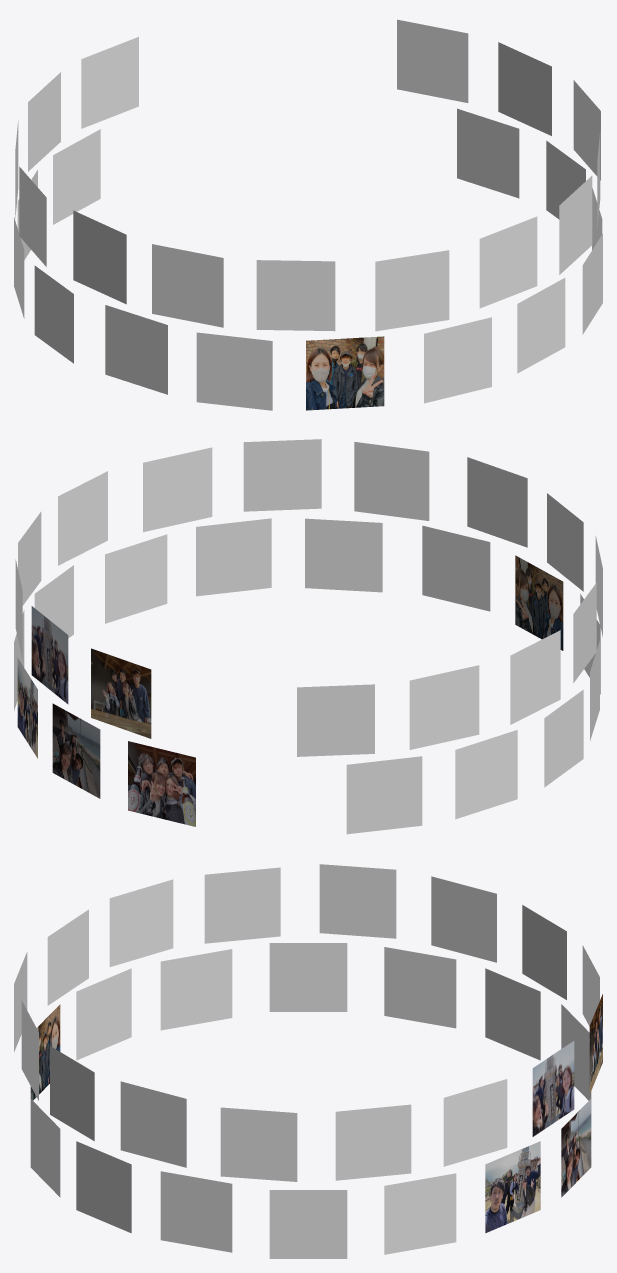
The model's file is Photo1.glb.
3 views of the same model, one above another, from view 1: azimuth 30°, elevation 25°; view 2: azimuth 150°, elevation 25°; view 3: azimuth 270°, elevation 25° (orthographic).
Parts seen in each view (by area): view 1: 平面20, 平面19, 平面21, 平面18, 平面6, 平面22, 平面17, 平面23, 平面7, 平面16, 平面32, 平面24 (+11 smaller); view 2: 平面14, 平面15, 平面30, 平面29, 平面13, 平面16, 平面28, 平面12, 平面17, 平面1, 平面11, 平面27 (+16 smaller); view 3: 平面9, 平面25, 平面26, 平面10, 平面8, 平面24, 平面7, 平面11, 平面23, 平面27, 平面12, 平面28 (+18 smaller).
Part boxes in pixels (<box>): 平面20: <box>256,260,335,331</box>; 平面19: <box>306,336,384,410</box>; 平面21: <box>196,332,272,410</box>; 平面18: <box>375,250,449,331</box>; 平面6: <box>397,19,468,102</box>; 平面22: <box>152,244,223,327</box>; 平面17: <box>424,317,491,403</box>; 平面23: <box>105,305,167,394</box>; 平面7: <box>457,108,519,198</box>; 平面16: <box>479,216,537,308</box>; 平面32: <box>81,37,138,128</box>; 平面24: <box>73,210,126,304</box>; 平面14: <box>243,439,321,511</box>; 平面15: <box>305,518,382,592</box>; 平面30: <box>297,684,374,756</box>; 平面29: <box>346,756,422,834</box>; 平面13: <box>196,518,271,596</box>; 平面16: <box>354,442,429,520</box>; 平面28: <box>409,665,479,749</box>; 平面12: <box>143,447,212,532</box>; 平面17: <box>422,525,490,611</box>; 平面1: <box>128,741,195,826</box>; 平面11: <box>105,534,167,623</box>; 平面27: <box>455,730,517,819</box>; 平面9: <box>269,1190,347,1258</box>; 平面25: <box>269,943,347,1011</box>; 平面26: <box>319,864,396,938</box>; 平面10: <box>220,1107,297,1181</box>; 平面8: <box>335,1104,411,1180</box>; 平面24: <box>204,867,280,943</box>; 平面7: <box>384,1173,456,1254</box>; 平面11: <box>160,1171,232,1252</box>; 平面23: <box>160,949,232,1030</box>; 平面27: <box>384,947,456,1028</box>; 平面12: <box>120,1081,186,1167</box>; 平面28: <box>431,876,496,962</box>.
Bounding box in the file's own units: 22.34 × 6.14 × 22.34.
Materials: 32 (6 with a texture image).
